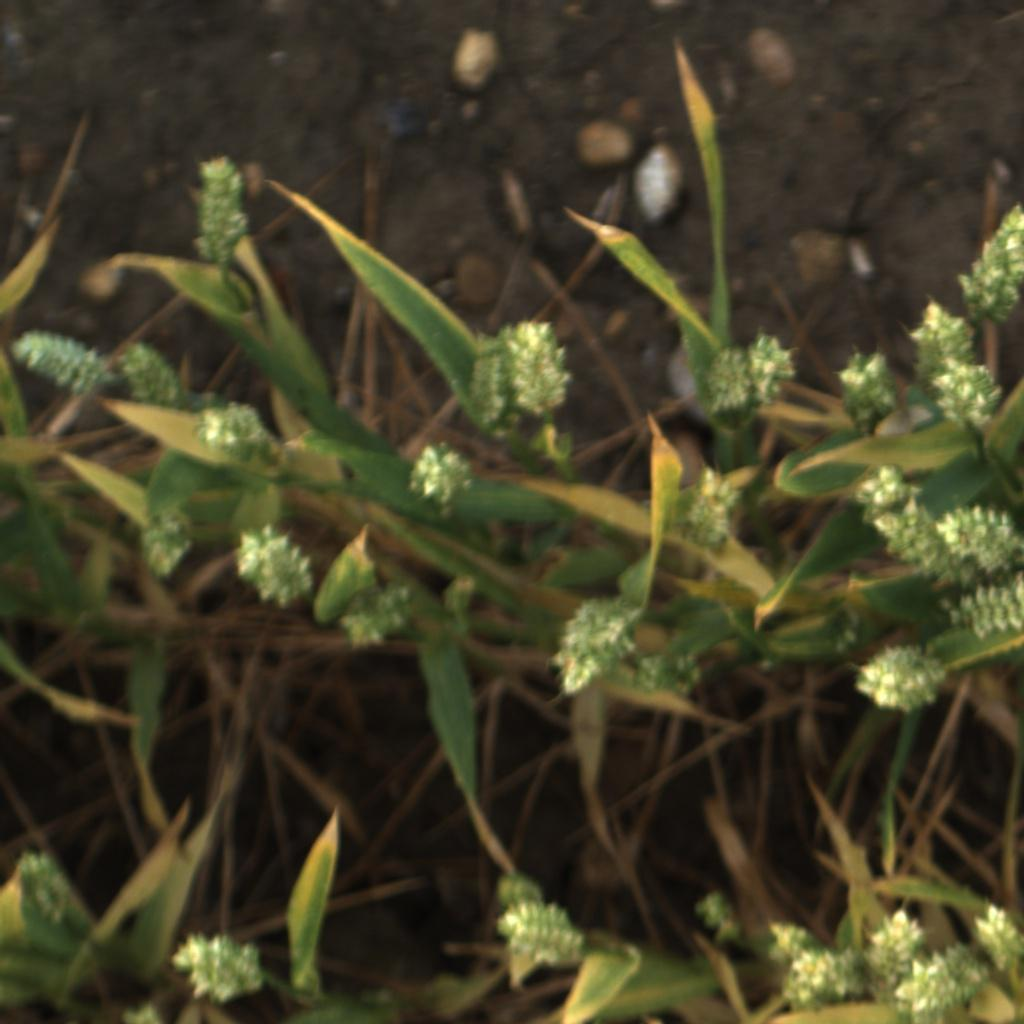0-0: (547, 591, 638, 697), (951, 199, 1024, 322), (231, 523, 324, 609), (865, 499, 959, 584), (191, 152, 258, 264), (13, 324, 108, 399), (889, 944, 980, 1022), (851, 643, 948, 716), (926, 356, 1011, 438), (508, 315, 573, 422), (175, 928, 265, 1004), (488, 901, 590, 968), (841, 452, 931, 527), (783, 944, 873, 1013), (939, 569, 1024, 642), (480, 856, 563, 930), (454, 326, 517, 423), (937, 499, 1024, 569), (834, 349, 901, 438), (890, 298, 977, 366), (684, 461, 748, 546), (398, 441, 480, 507), (864, 907, 930, 989), (114, 332, 184, 409), (340, 585, 415, 654), (746, 327, 805, 412), (136, 507, 200, 582), (194, 401, 266, 466), (632, 643, 705, 705), (697, 336, 754, 415), (13, 846, 68, 924), (966, 900, 1024, 973), (688, 882, 746, 945), (764, 913, 823, 969), (117, 1000, 168, 1024)
